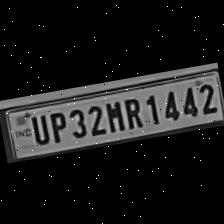1: (138, 90, 162, 126)
2: (192, 77, 217, 114), (82, 99, 106, 136)
3: (62, 102, 88, 139)
4: (156, 84, 182, 122), (176, 82, 198, 118)
M: (102, 96, 126, 132)
P: (44, 106, 69, 144)
R: (118, 92, 144, 130)
U: (25, 110, 50, 146)
